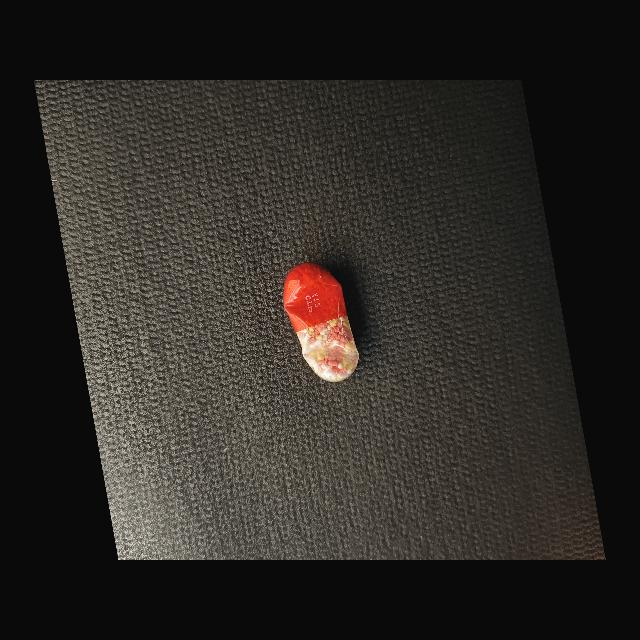Defective Capsule: (283, 262, 359, 382)
